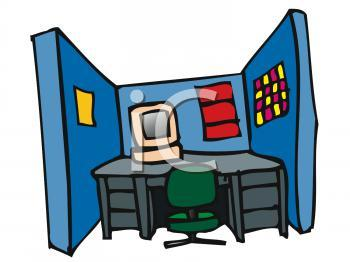chair: (161, 160, 229, 251)
tvmonitor: (125, 105, 183, 147)
